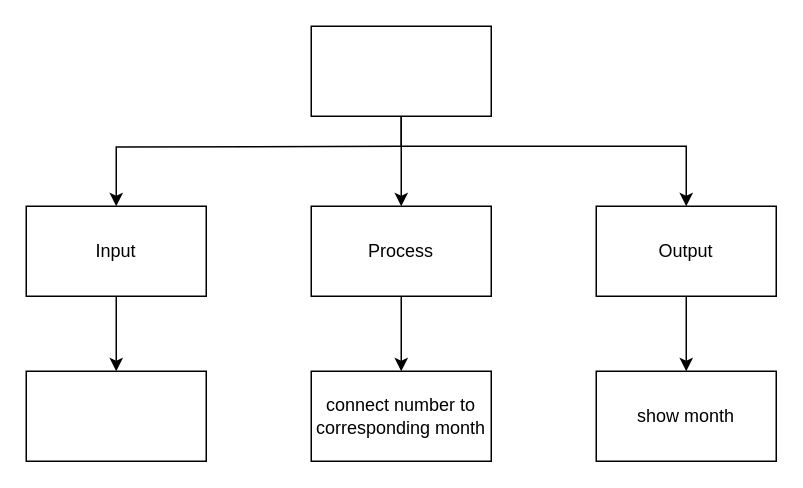
Image size: 803x488. Some labels were removed from this diagram. Each missing label, with the box of its shape:
If Then: (310, 25, 491, 116)
user enters month_number: (25, 370, 206, 461)
